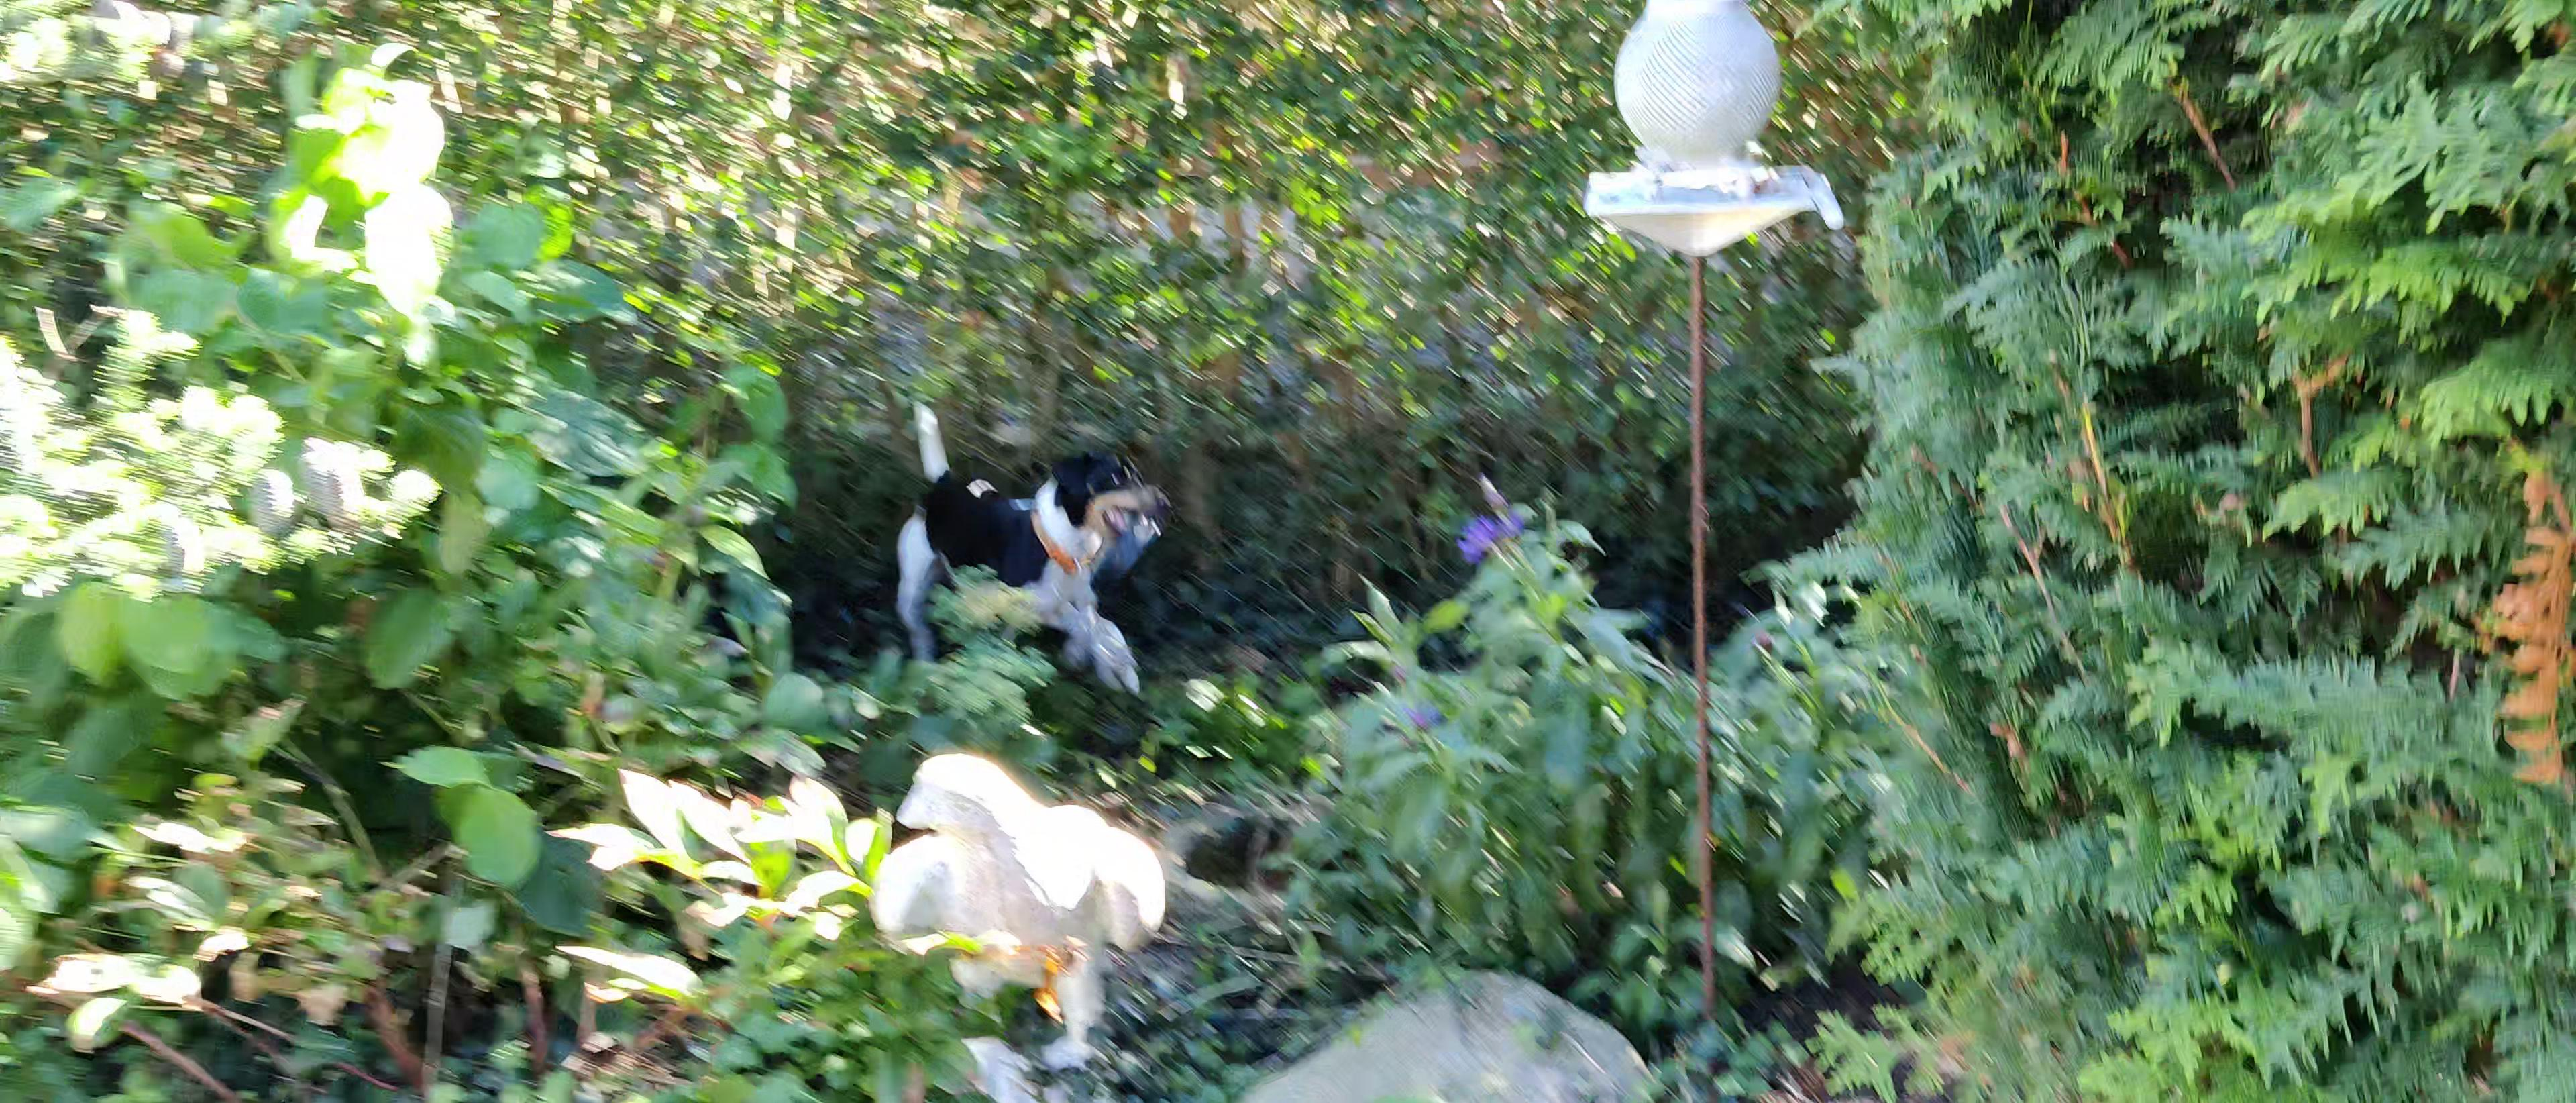Dog: (884, 391, 1175, 699)
